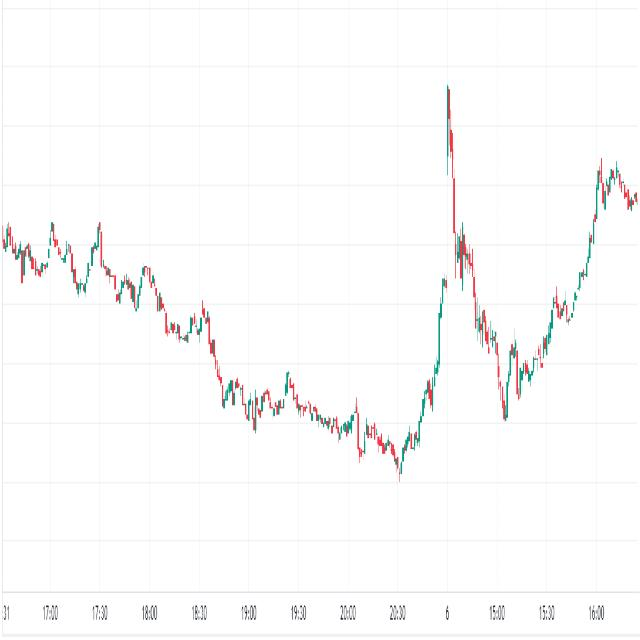Channel-down: (0, 168, 214, 380)
